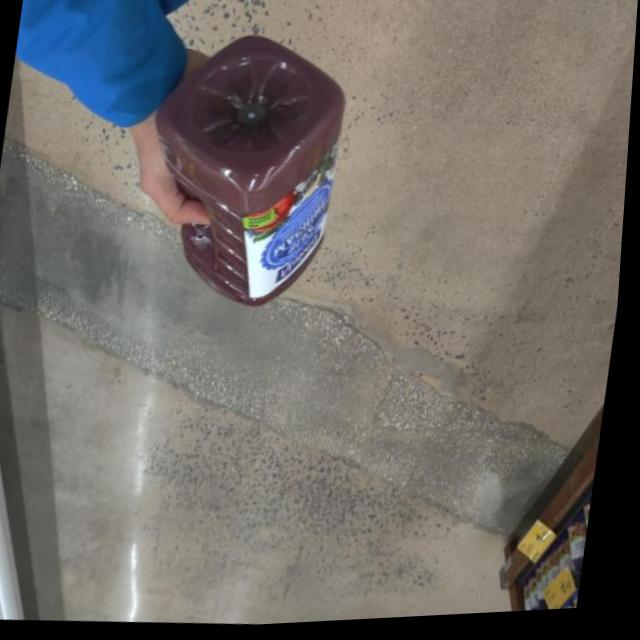Juice: (124, 25, 382, 326)
